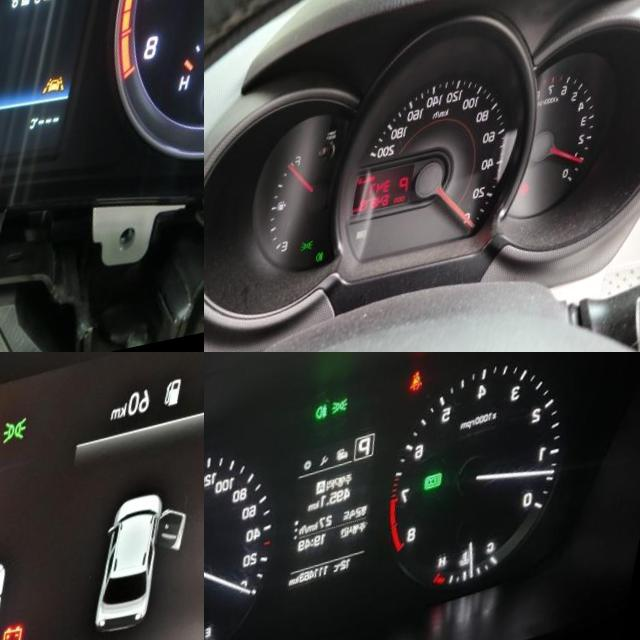FrontFogLight: (325, 414, 341, 433), (330, 259, 341, 272)
LaneCenteringOff: (56, 88, 82, 112)
SideLamp: (8, 424, 35, 455), (340, 408, 361, 427), (316, 248, 329, 260)
